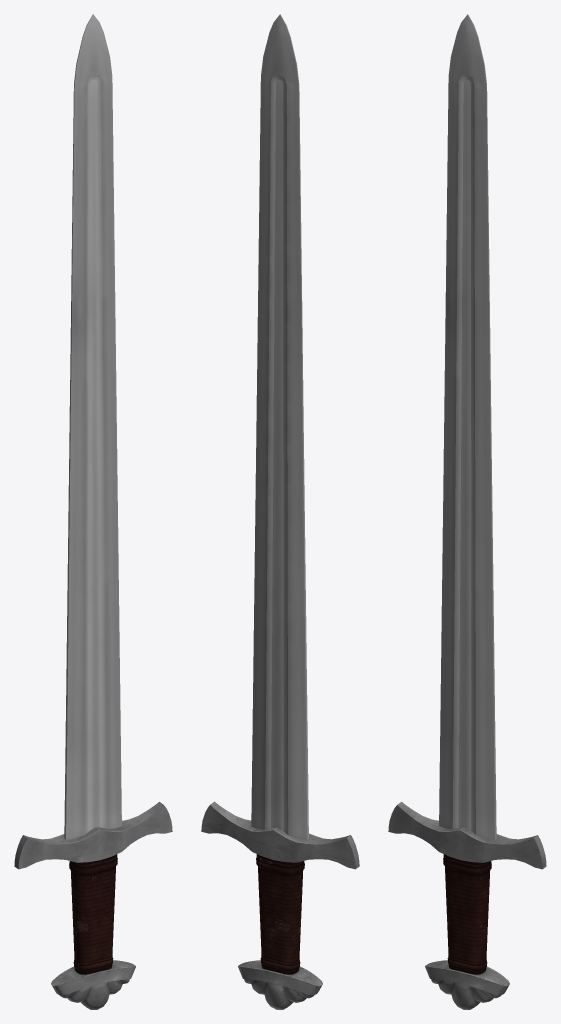
The model's file is mfx025_viking-sword-A.FBX.
3 views of the same model, side by side, from view 1: azimuth 30°, elevation 25°; view 2: azimuth 150°, elevation 25°; view 3: azimuth 330°, elevation 25° (orthographic).
Visible parts, largest first — view 1: mfx025_viking-sword-A; view 2: mfx025_viking-sword-A; view 3: mfx025_viking-sword-A.
Part boxes in pixels (bbox=[...]): mfx025_viking-sword-A: bbox=[14, 14, 172, 1009]; mfx025_viking-sword-A: bbox=[201, 14, 359, 1009]; mfx025_viking-sword-A: bbox=[388, 14, 546, 1009].
Size of the model in its own units: 0.2407 by 0.0391 by 1.48.
Materials: 1 (1 with a texture image).
